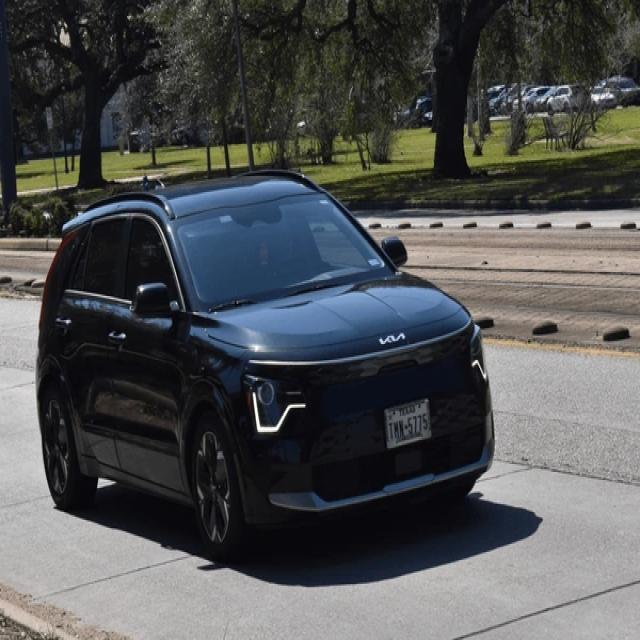kia: (376, 328, 409, 354)
